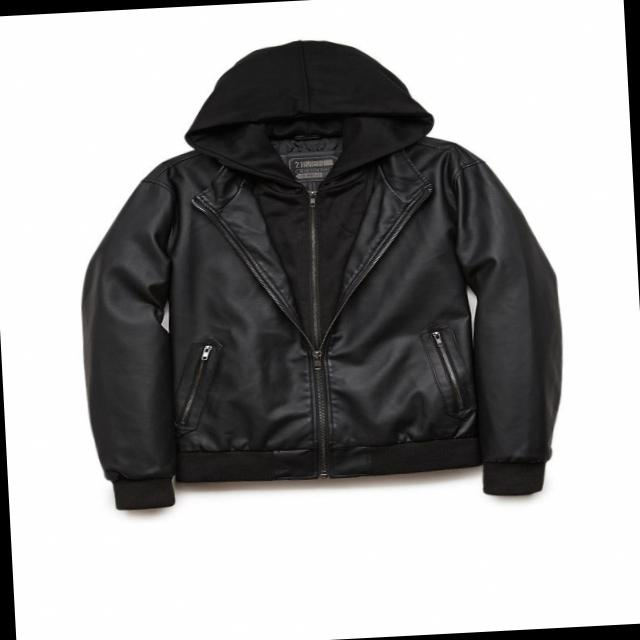Jacket: (65, 25, 576, 518)
